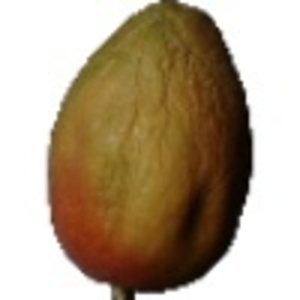mamão: (30, 4, 261, 287)
